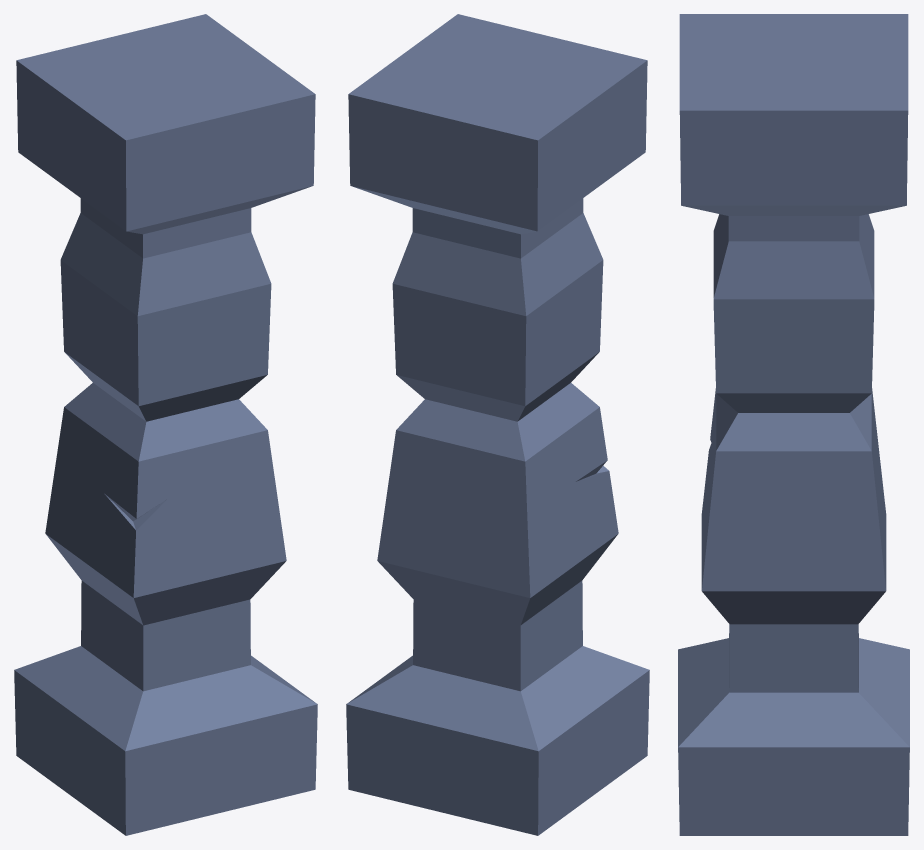
Rendered from n2_pillar_grey_0_lev2.002.glb.
3 renders of one model, left to right at view 1: azimuth 30°, elevation 25°; view 2: azimuth 150°, elevation 25°; view 3: azimuth 270°, elevation 25°, orthographic. The views are drawn at different scales.
Visible parts, largest first — view 1: n2_pillar_grey_0_lev2.002; view 2: n2_pillar_grey_0_lev2.002; view 3: n2_pillar_grey_0_lev2.002.
Boxes of the visible parts, x1,y1,x2,y2 form: n2_pillar_grey_0_lev2.002: (14, 14, 317, 835); n2_pillar_grey_0_lev2.002: (346, 14, 649, 835); n2_pillar_grey_0_lev2.002: (678, 14, 909, 835).
Bounding box in the file's own units: 1.31 × 4.53 × 1.31.
